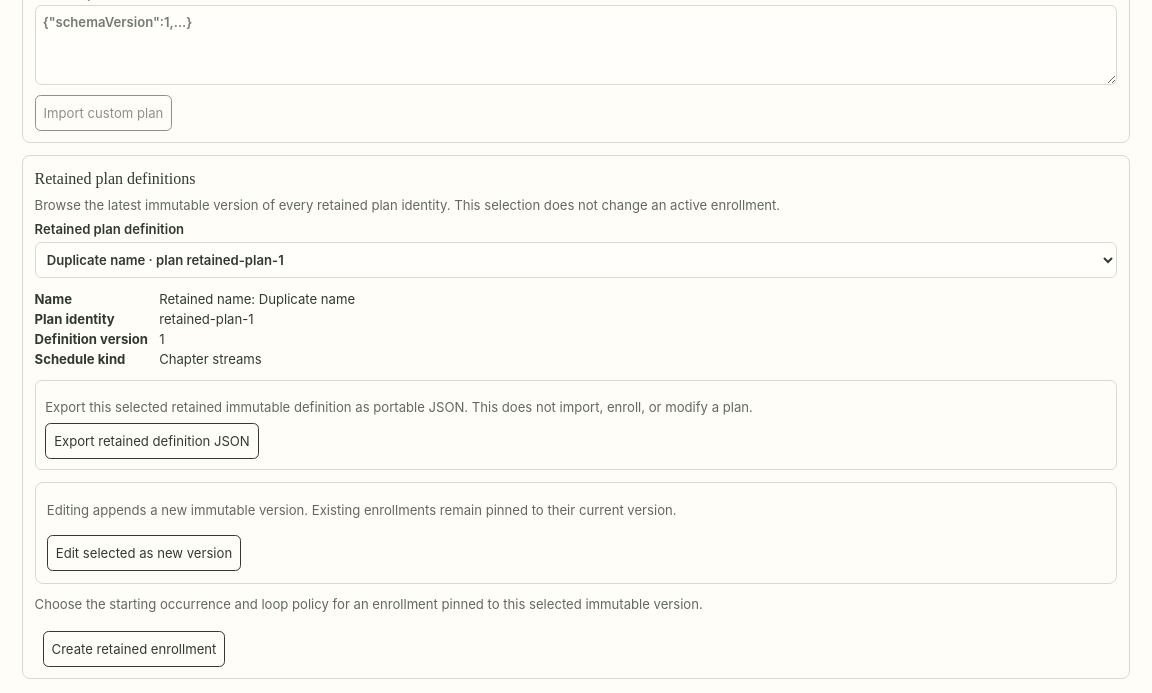
Test: retained plan panel › exports the exact selected retained version for duplicate names and both schedule kinds
This screenshot has width=1152, height=693.
(page scrolled)
Click the button "Export retained definition JSON". click: (152, 441)
box: [45,423,259,459]
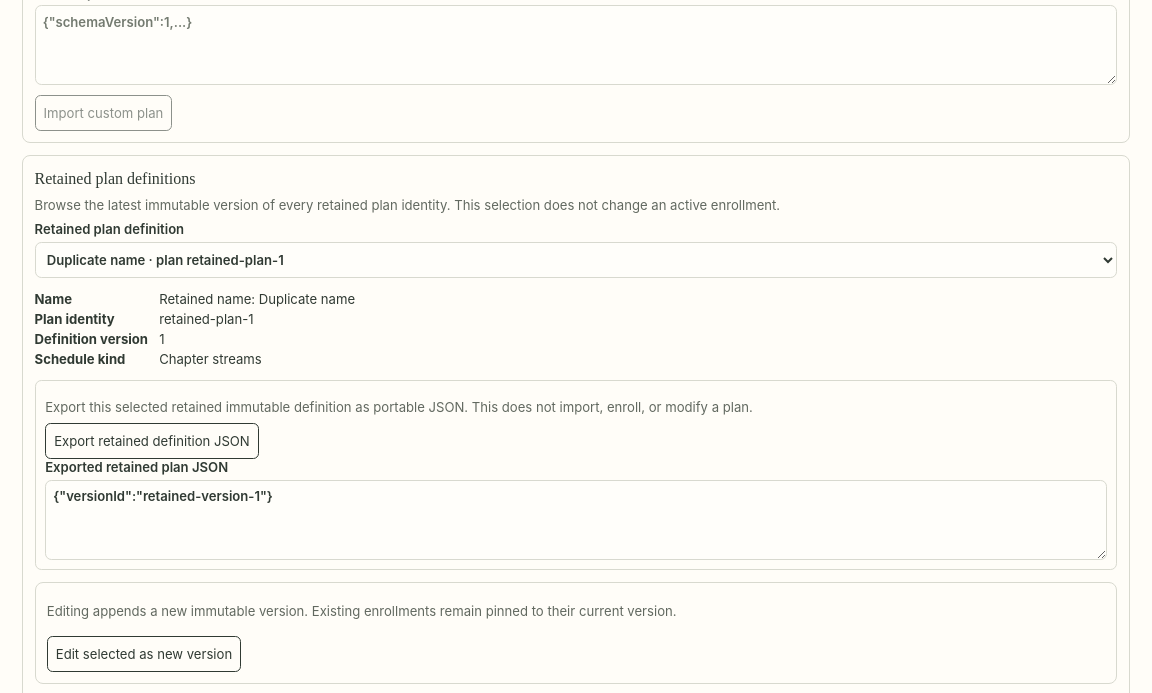
Expected: the text box labelled "Exported retained plan JSON" holds "{\"versionId\":\"retained-version-1\"}", [45,480,1107,560]
Select "Duplicate name · plan retained-plan-2" in the dropdown labelled "Retained plan definition". click: (576, 260)
box: [35,242,1117,278]
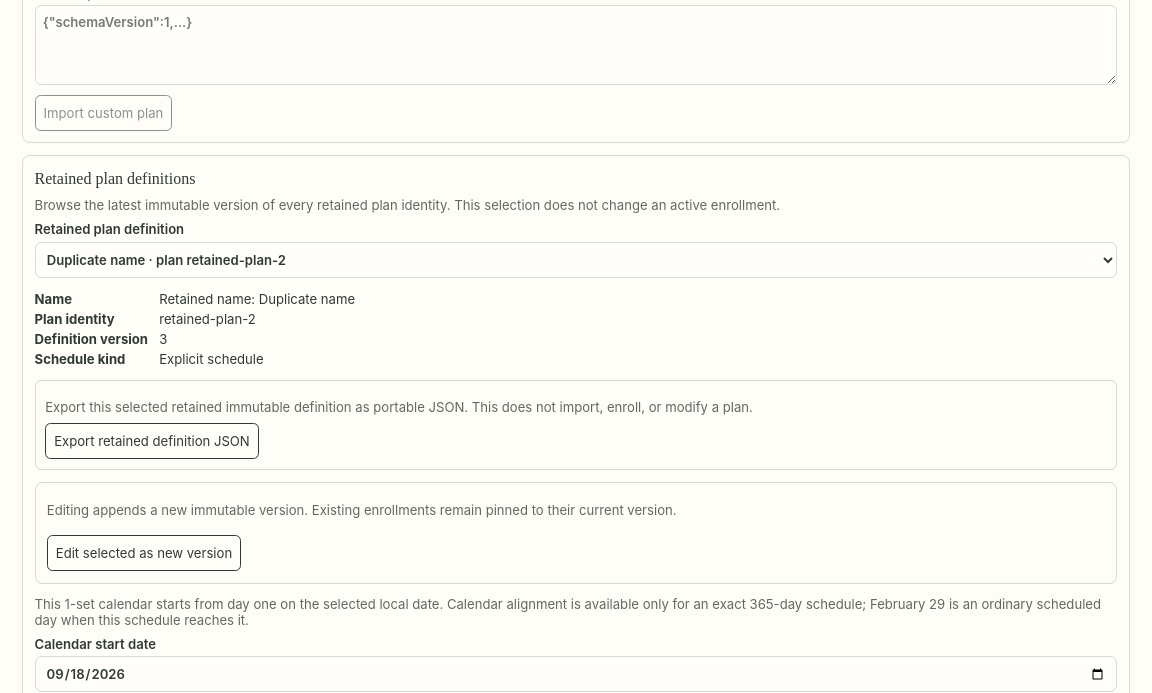
Expected: the label labelled "Exported retained plan JSON" is gone
Click the button "Export retained definition JSON". click: (152, 441)
box: [45,423,259,459]
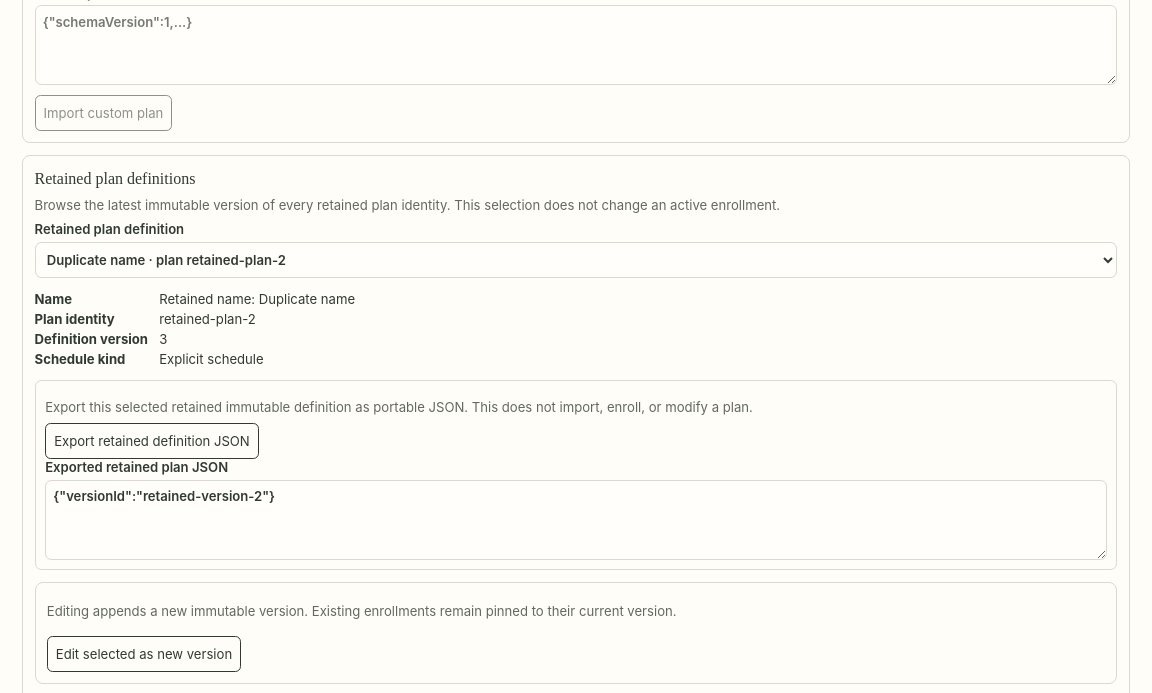
Expected: the text box labelled "Exported retained plan JSON" holds "{\"versionId\":\"retained-version-2\"}", [45,480,1107,560]
